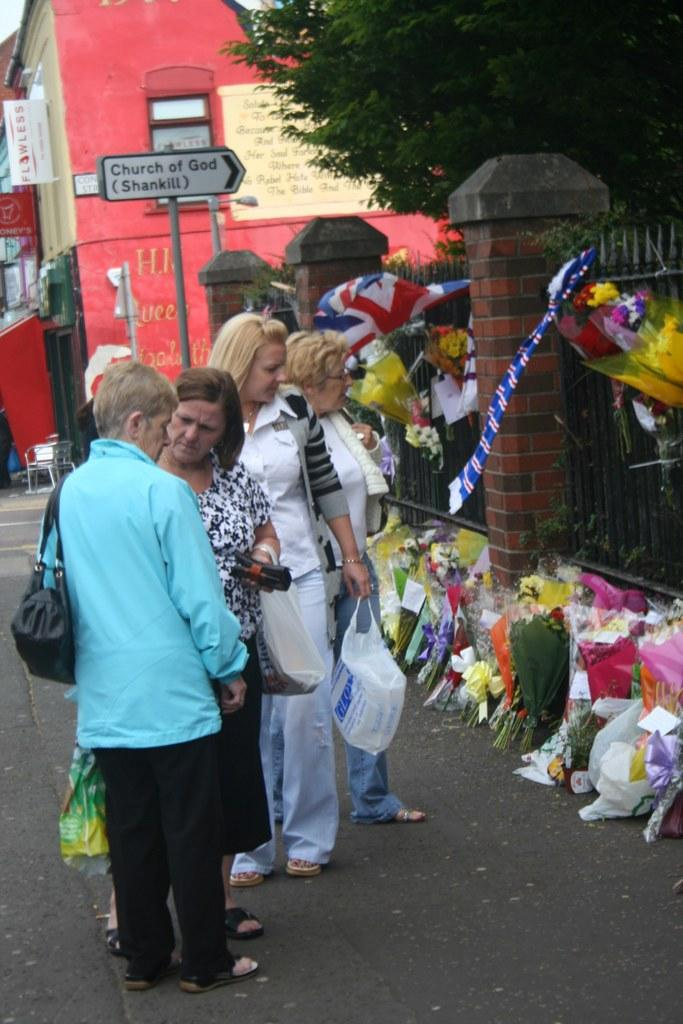Sem Máscara: (166, 392, 224, 463), (242, 337, 279, 403), (314, 351, 351, 407), (134, 405, 165, 456)
